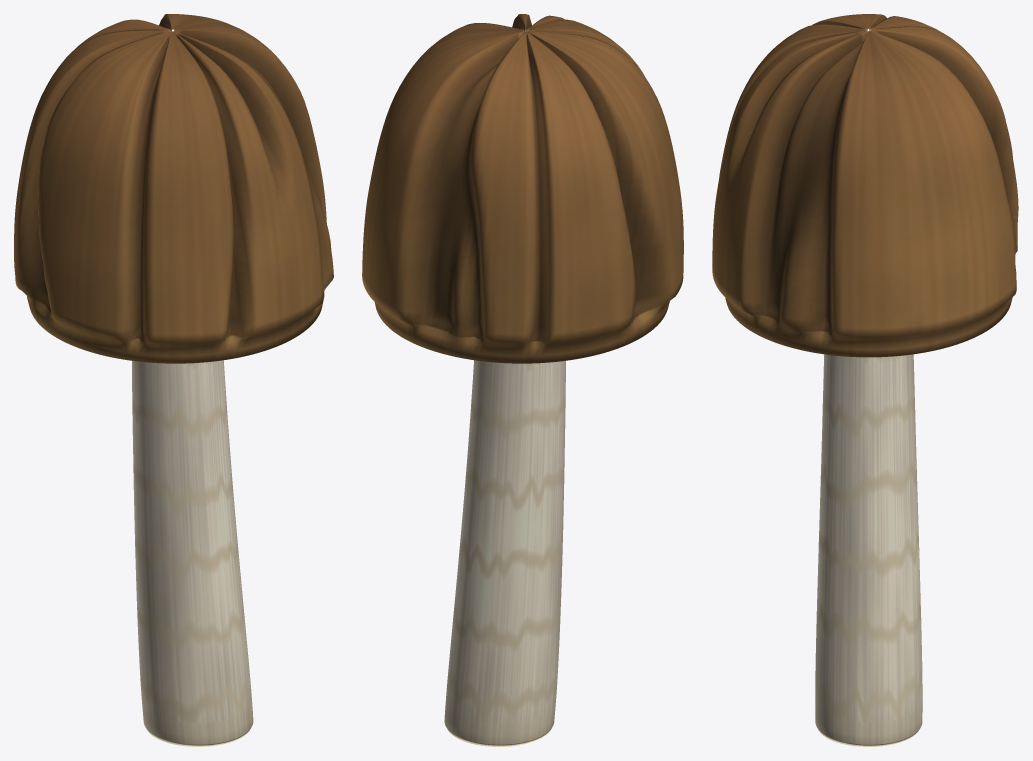
Rendered from verpa-bohemica-drawn.glb.
The picture shows the model from 3 angles, left to right: view 1: azimuth 30°, elevation 25°; view 2: azimuth 150°, elevation 25°; view 3: azimuth 270°, elevation 25°; orthographic projection. The views are drawn at different scales.
Size of the model in its own units: 0.4194 by 1.01 by 0.4108.
1 material, 1 textured.
